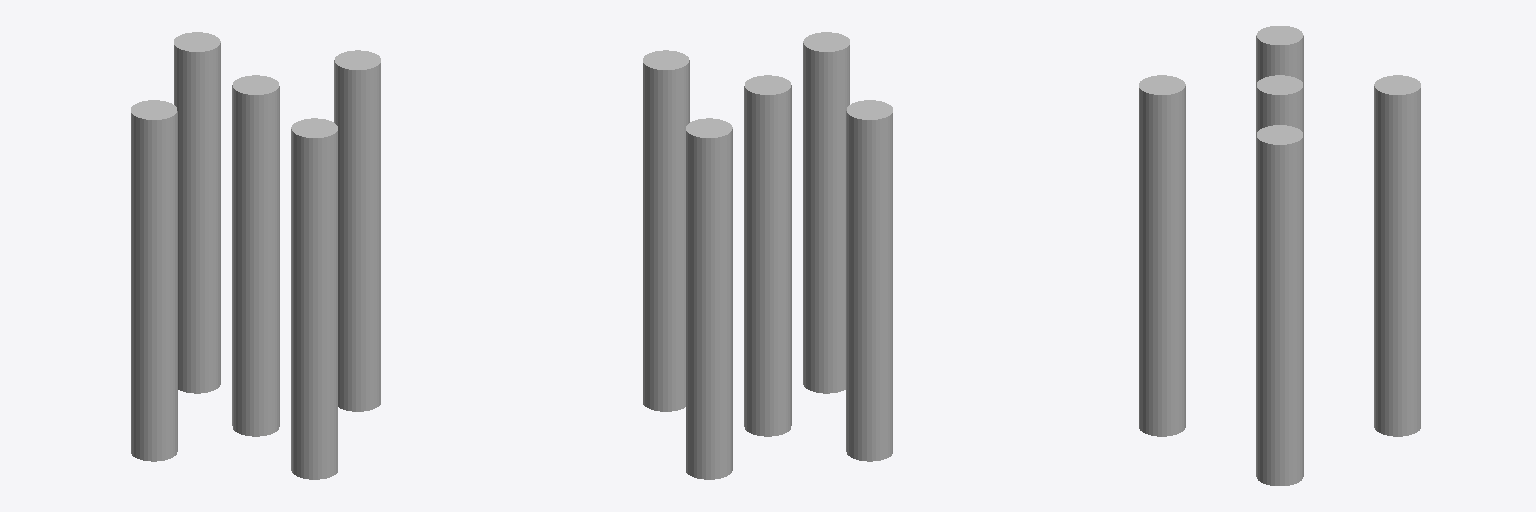
File: spike.obj
The picture shows the model from 3 angles: view 1: azimuth 30°, elevation 25°; view 2: azimuth 150°, elevation 25°; view 3: azimuth 270°, elevation 25°; orthographic projection.
Parts seen in each view (by area): view 1: Cylinder; view 2: Cylinder; view 3: Cylinder.
Part boxes in pixels (left/top/right/bottom): Cylinder: left=131, top=32, right=380, bottom=479; Cylinder: left=643, top=32, right=892, bottom=479; Cylinder: left=1139, top=26, right=1420, bottom=485.
Bounding box in the file's own units: 1.2 × 1.6 × 1.2.